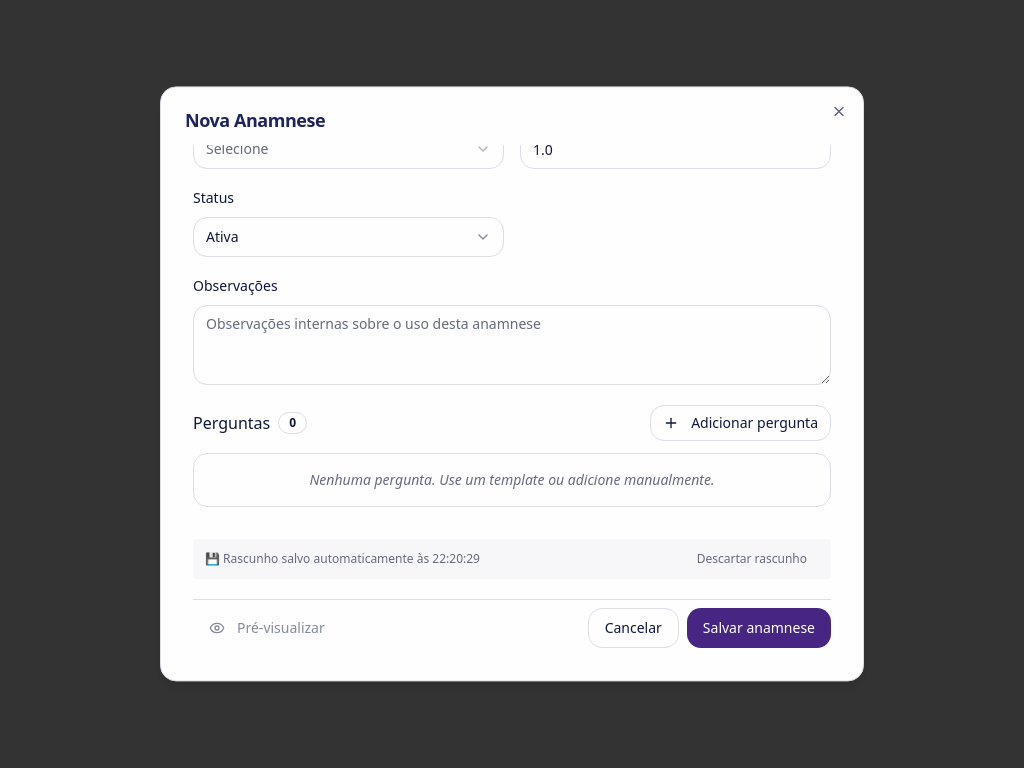
Test: AnamneseFormModal — toasts por ação de rascunho › exibe toast "Rascunho mantido" e fecha ao manter alterações
Earlier steps of the test are not shown.
Later steps or results of the test are not shown.
(page scrolled)
Click the button "Cancelar".
click(633, 628)  # box x1=588 y1=608 x2=679 y2=648
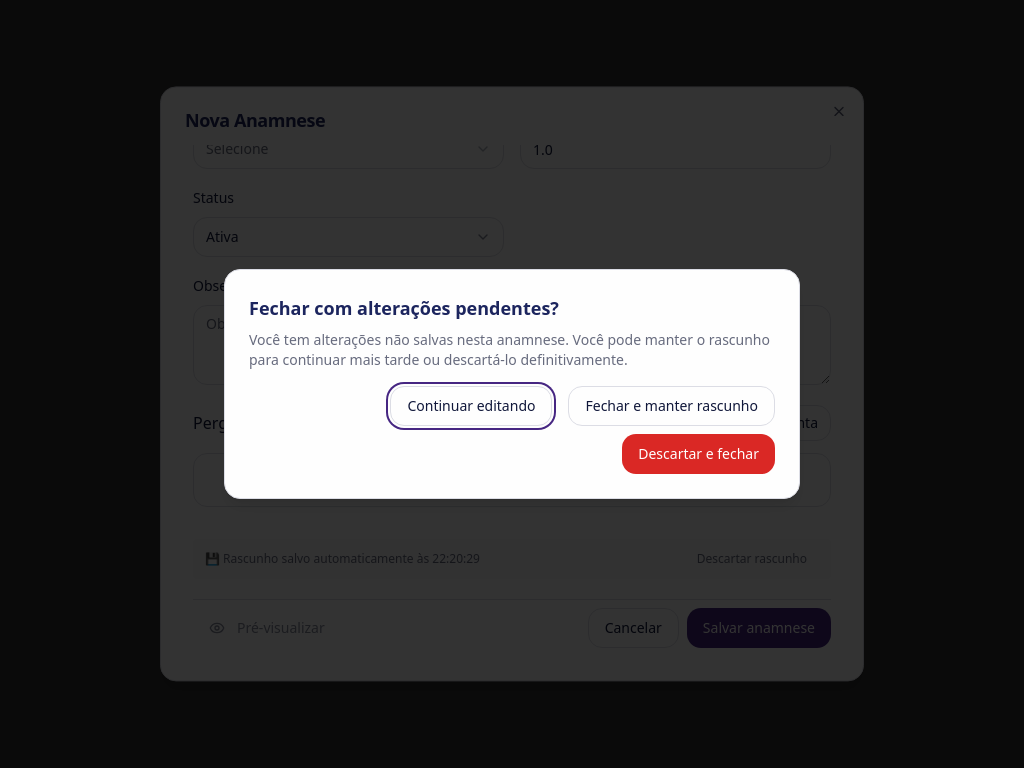
Check: the dialog with test id "confirm-close-dialog" is shown, box x1=224 y1=269 x2=800 y2=499
